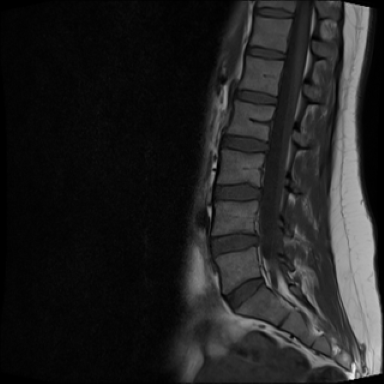Lumbar Disc Bulge (LDB): (205, 225, 267, 263), (210, 178, 271, 206)
Normal IVD: (219, 268, 266, 320), (217, 129, 272, 158), (229, 81, 281, 109), (242, 38, 289, 65), (251, 3, 297, 22)
Spinal Stenosis (SS): (243, 226, 267, 254), (247, 181, 271, 206)
